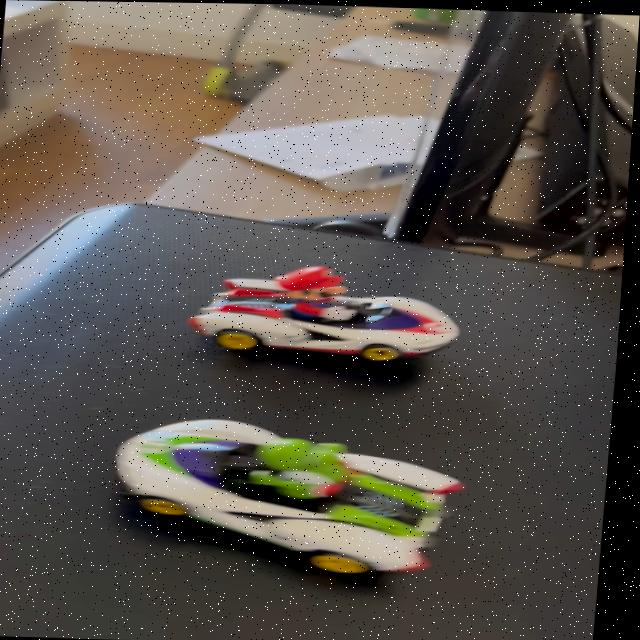mario: (189, 260, 488, 370)
yoshi: (87, 403, 519, 583)
